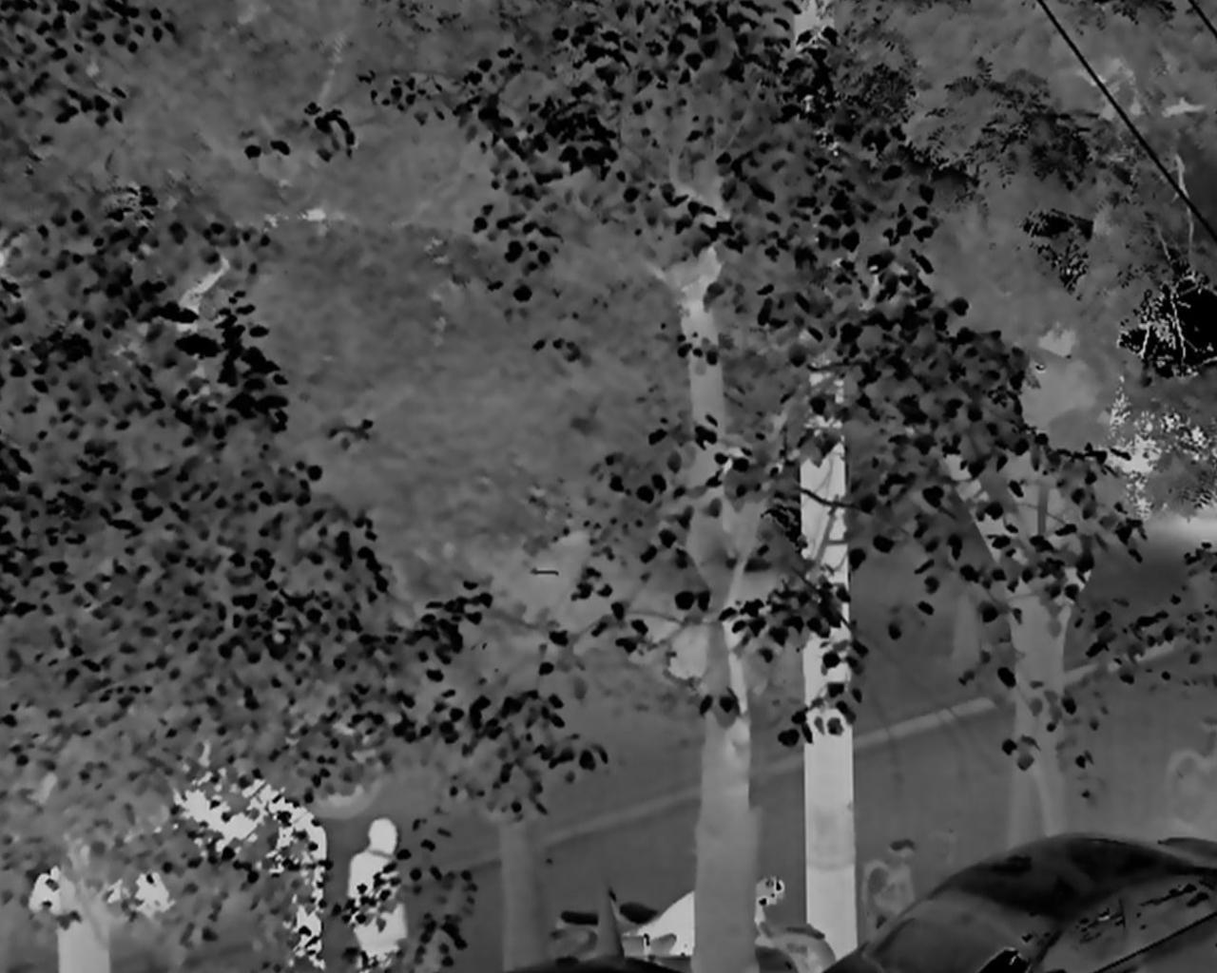person: (267, 797, 330, 971), (354, 820, 408, 969)
